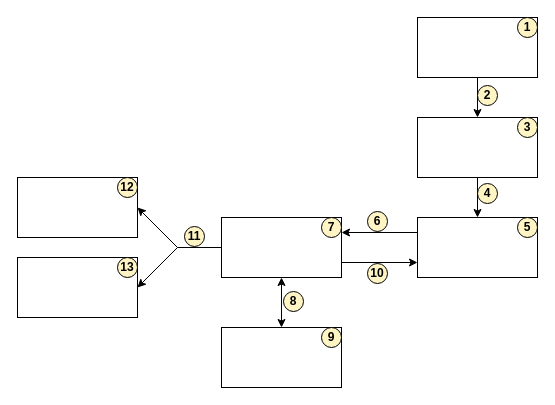
Some shapes in this 555 by 405 pixel diagram are drawn without their labels. Each missing label, with the box of its shape:
Analysis Server: (416, 116, 538, 178)
Database: (416, 216, 538, 278)
Email Client: (16, 176, 138, 238)
Mobile Phone: (16, 256, 138, 318)
Weather Service: (416, 16, 538, 78)
Web Browser: (220, 326, 342, 388)
Web Server: (220, 216, 342, 278)
